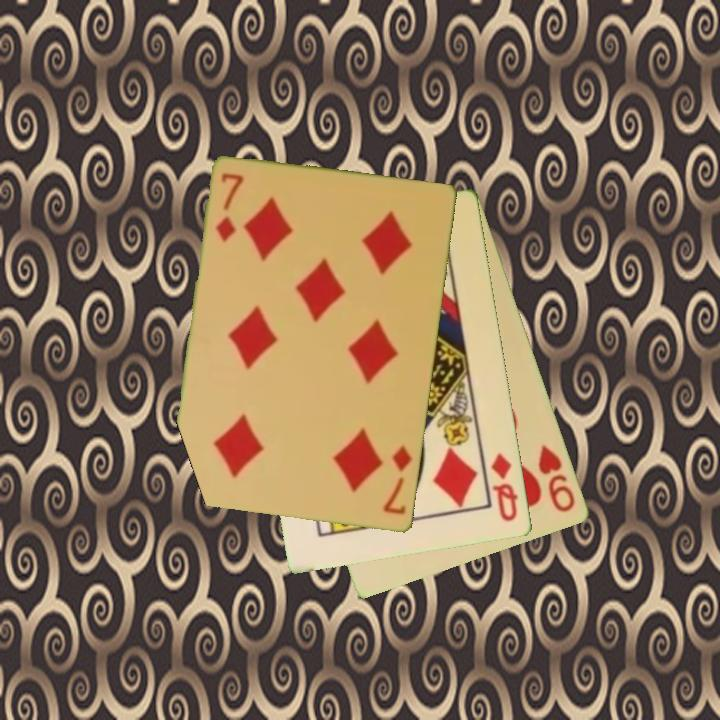7d: (379, 442, 416, 518), (213, 170, 247, 246)
9h: (535, 441, 579, 516)
Qd: (488, 449, 522, 525)
